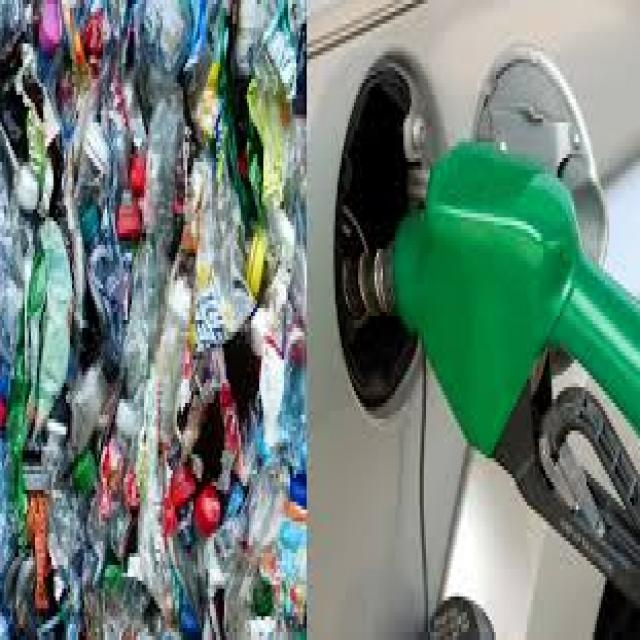plastic: (3, 9, 304, 625)
